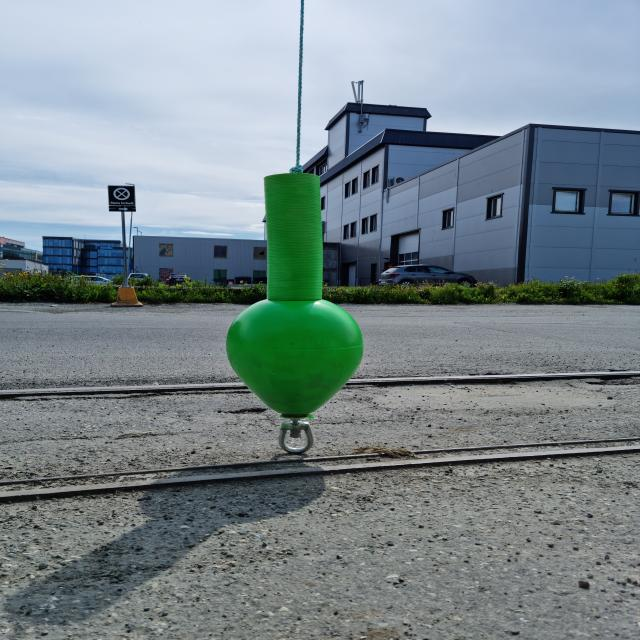green: (224, 172, 366, 418)
